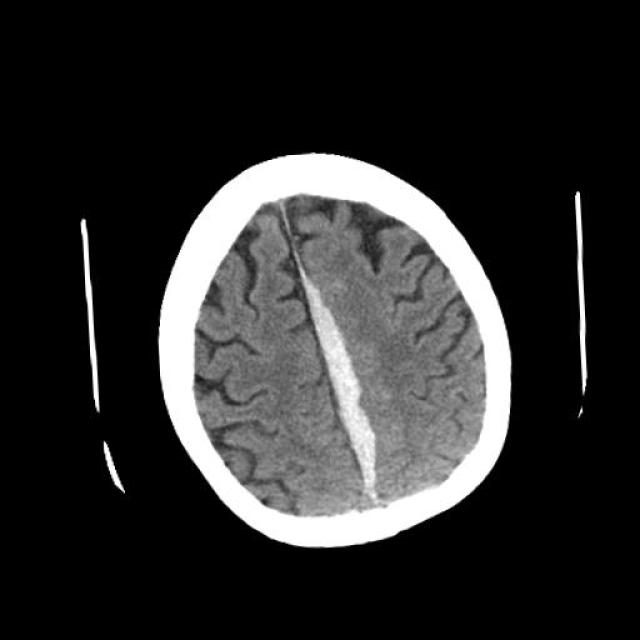Subdural: (252, 259, 399, 507)
